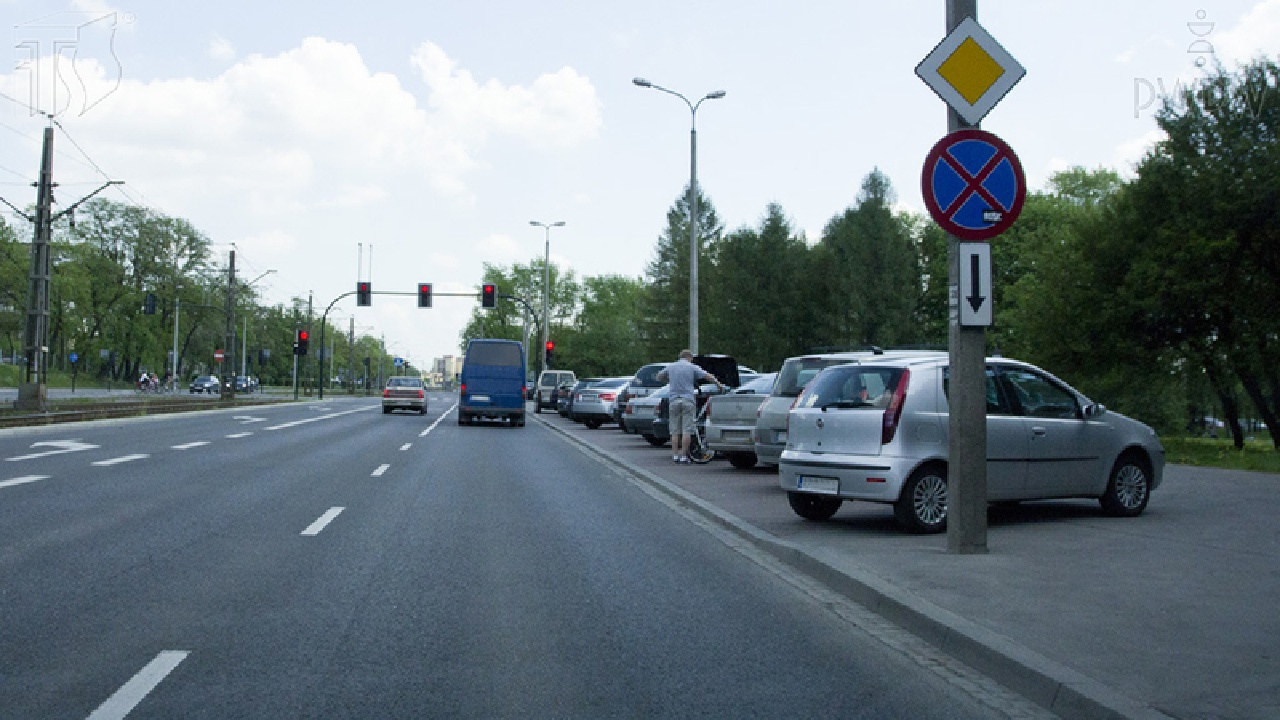B36: (921, 130, 1027, 240)
D1: (915, 14, 1027, 127)
Red: (485, 285, 493, 307), (300, 331, 307, 354), (546, 342, 553, 365), (360, 283, 367, 305), (421, 285, 428, 307)
